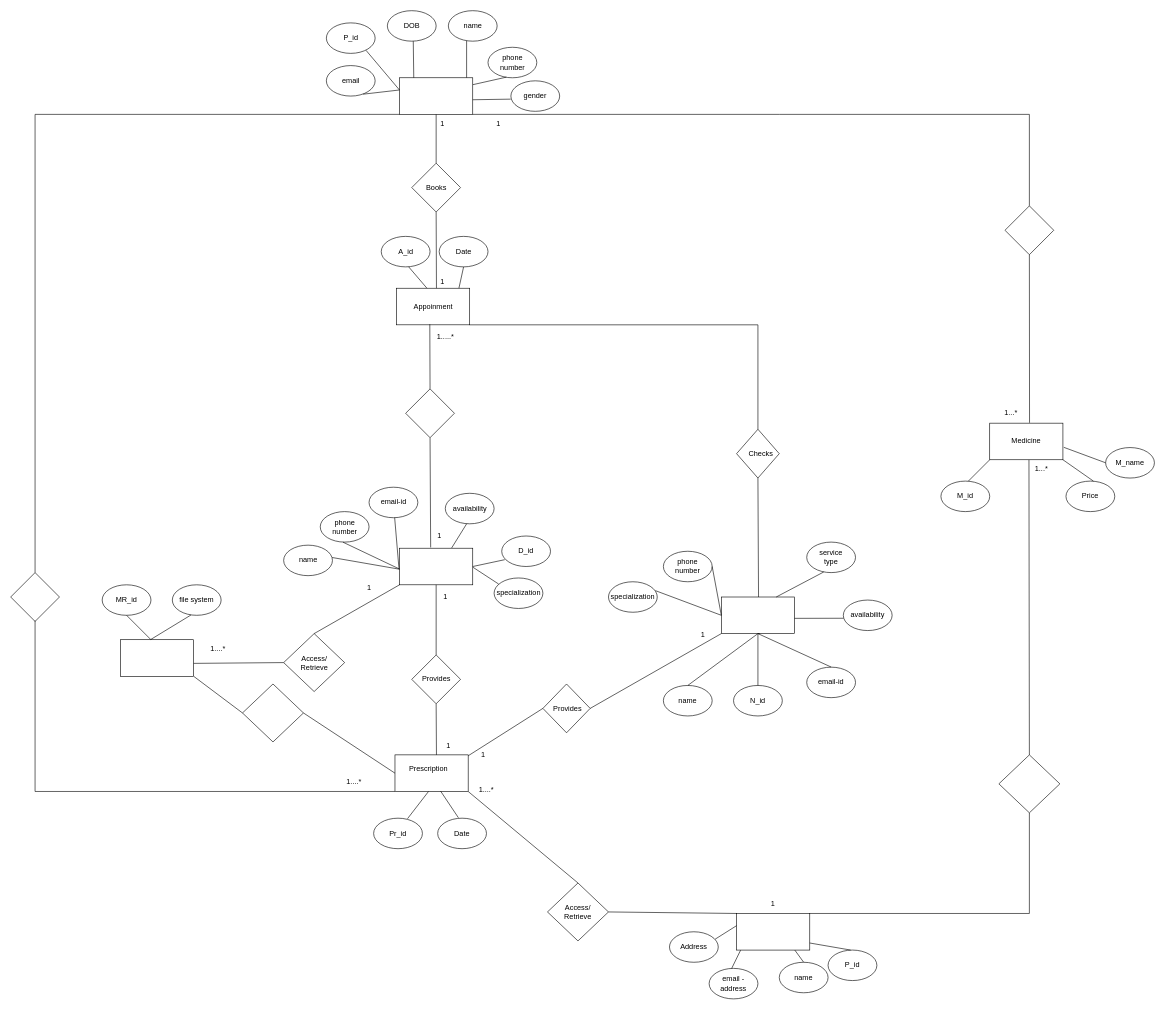
Some shapes in this 1165 by 1010 pixel diagram are drawn without their labels. Each missing label, with the box of its shape:
Buys: (1004, 205, 1054, 255)
Doctor: (399, 548, 473, 585)
Has: (405, 388, 454, 438)
Is Stored: (242, 683, 303, 742)
Medical Records: (120, 639, 194, 676)
Nurse: (721, 596, 795, 634)
Patient: (399, 77, 473, 114)
Pharmacy: (736, 913, 810, 950)
Sells: (998, 754, 1060, 813)
Views: (10, 572, 59, 621)
